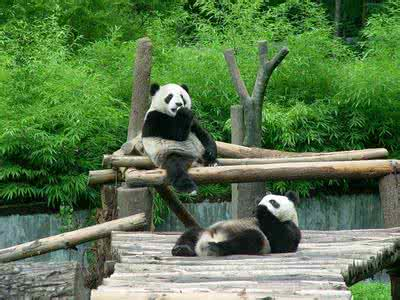panda: (145, 72, 219, 195), (166, 196, 303, 255)
